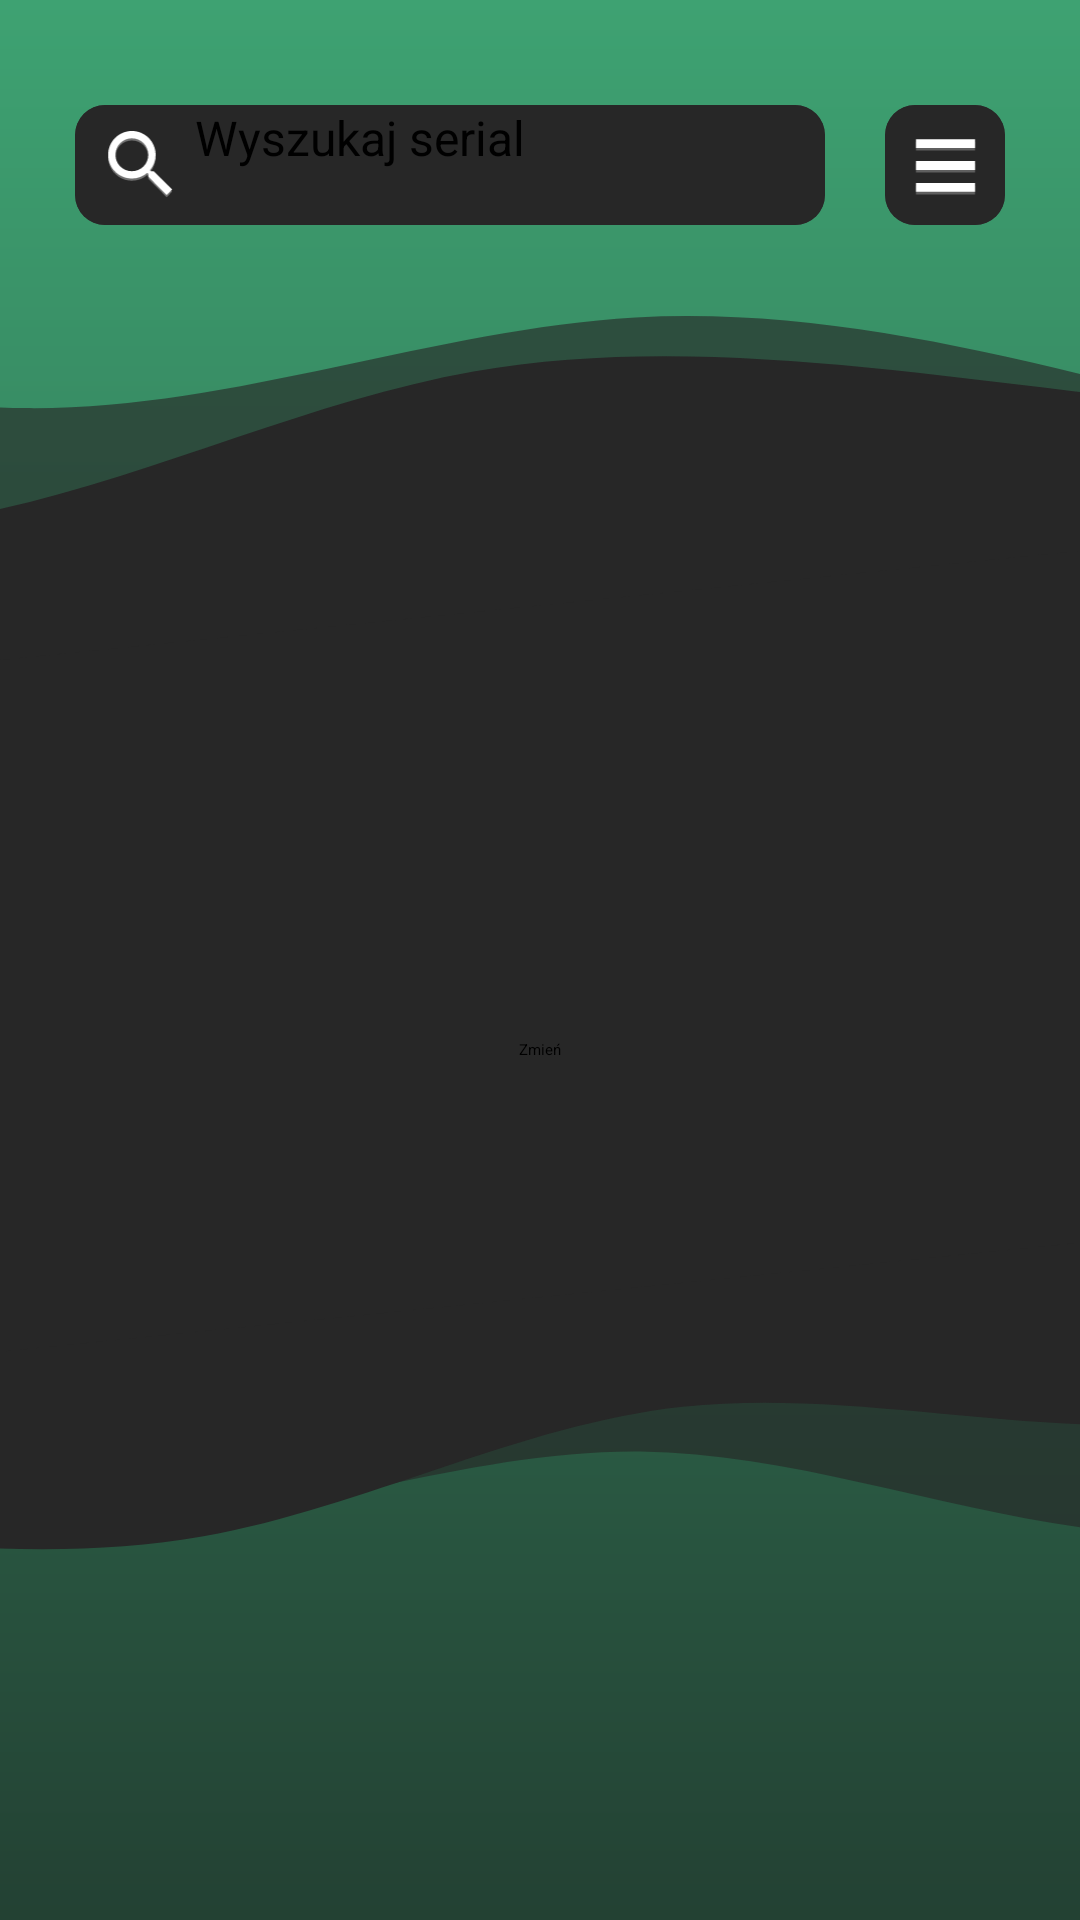

Named icons in this screenshot (1080x1920) and their centers, (x,y):
hamburger: (945,167)
search: (140,164)
